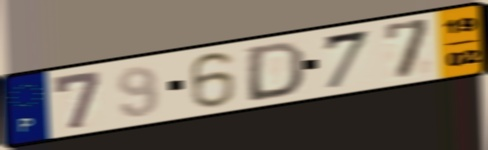6: (188, 50, 238, 111)
7: (318, 29, 375, 91), (381, 17, 433, 82), (50, 68, 103, 131)
9: (114, 64, 162, 120)
D: (243, 40, 308, 104)
